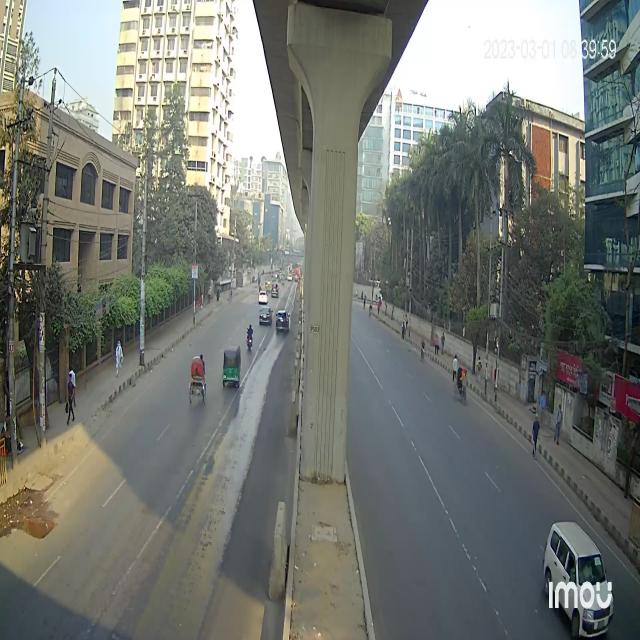cng: (220, 339, 242, 393)
rikshaw: (190, 354, 211, 411)
